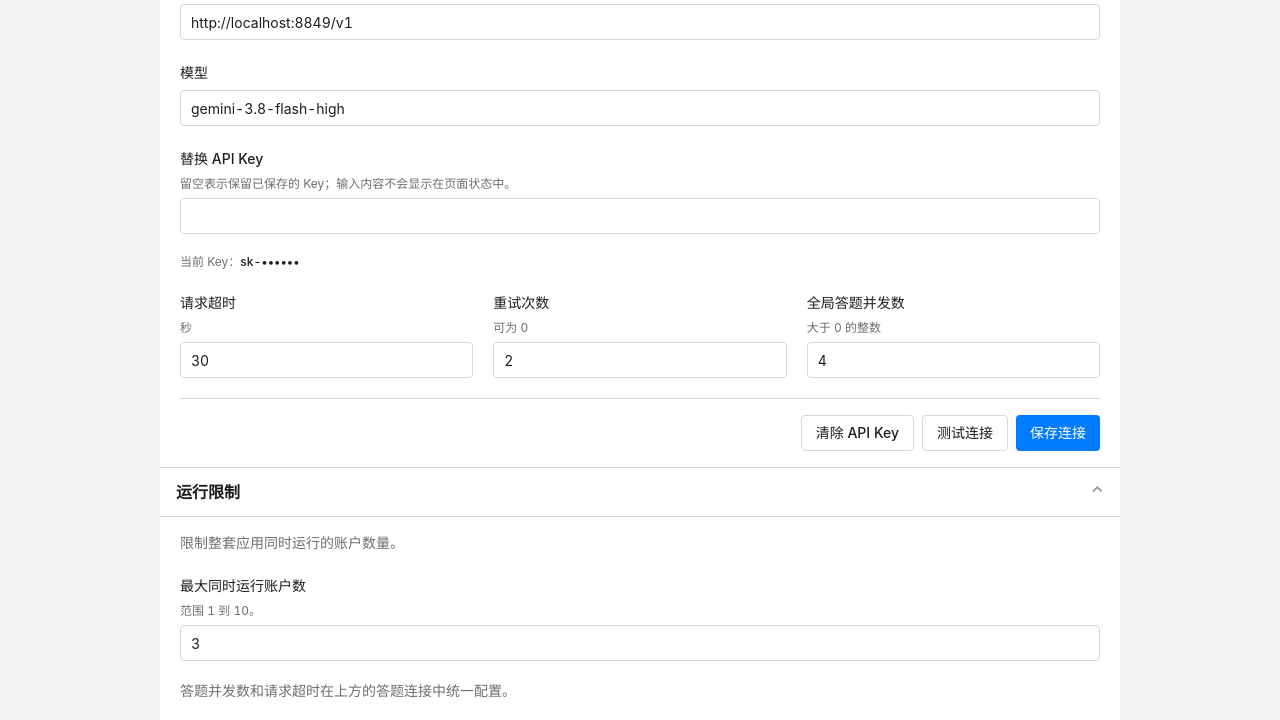
Test case: validates 请求超时 when saving the answer connection
(page scrolled)
Replace the text in the number field labelled "请求超时" with "-1": (327,360) [180,342,473,378]
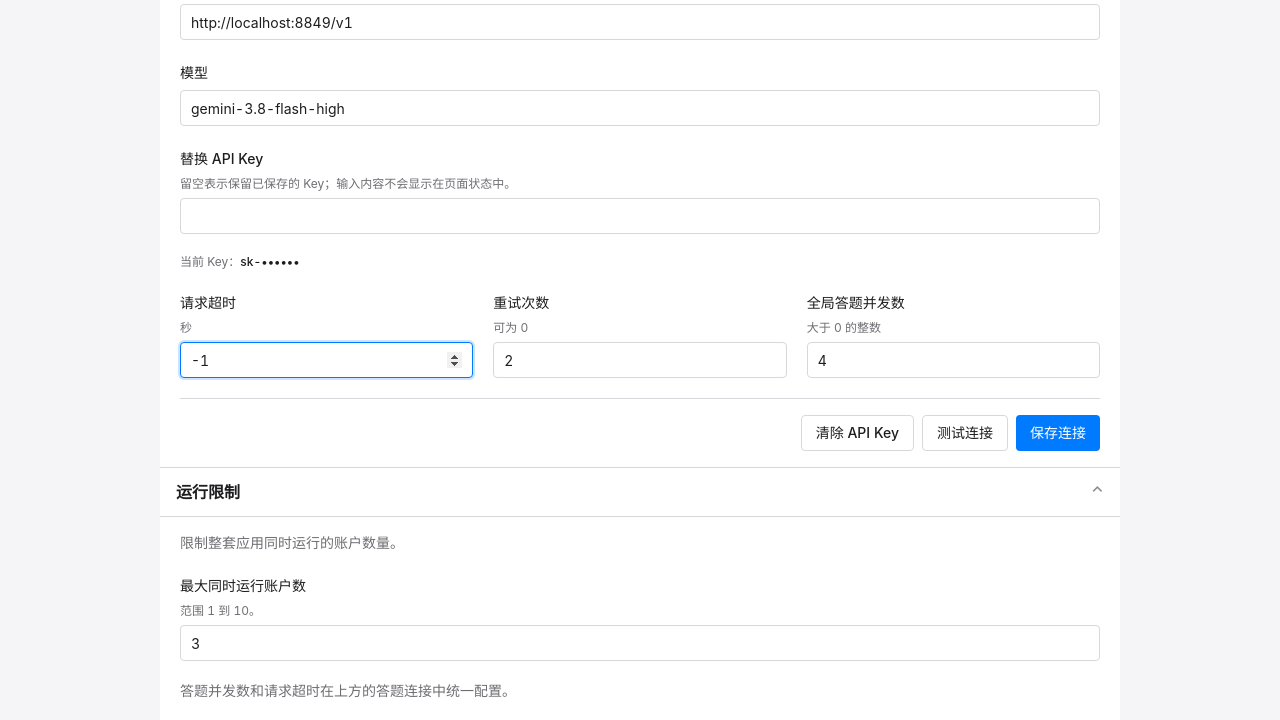
Click the button "保存连接": (1058,433) [1016,415,1100,451]
(page scrolled)
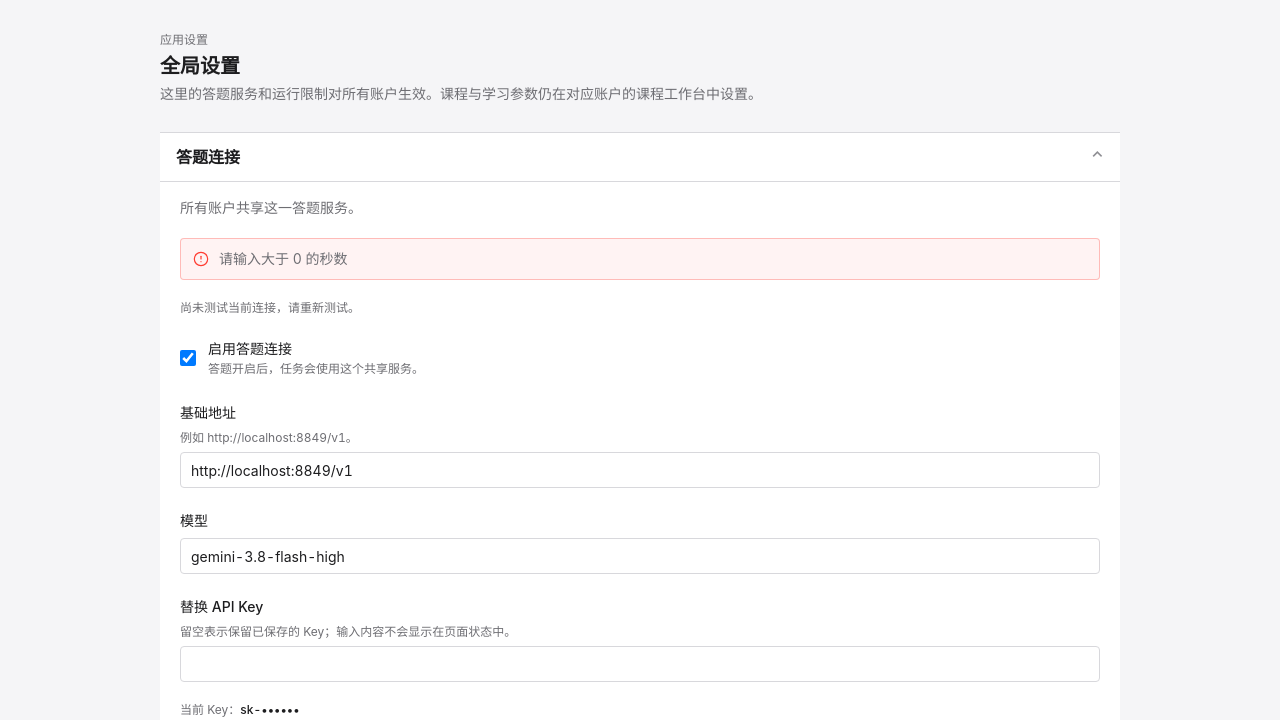
Check: the text "请输入大于 0 的秒数" is shown, box [219,250,348,267]
